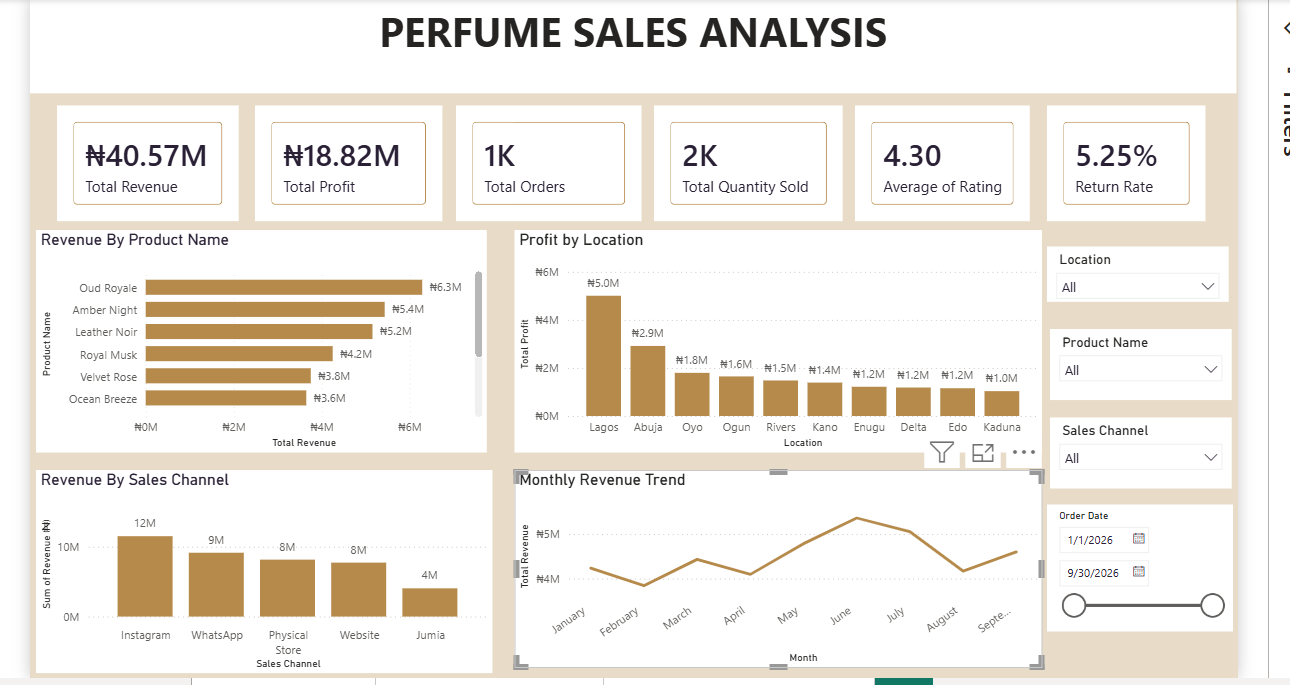

The dashboard page shown, as its layout file describes it:
{"tool":"powerbi","page":{"name":"Sales Overview","canvas":[1280,720],"ordinal":0},"visuals":[{"type":"cardVisual","fields":{"Data":["Cleaned dataset.Total Revenue"]},"box":[28.3,113.4,192.8,122.8],"z":0},{"type":"clusteredBarChart","title":"Revenue By Product Name","fields":{"Category":["Cleaned dataset. Product Name"],"Y":["Cleaned dataset.Total Revenue"]},"box":[5.7,245.7,478.1,236.2],"z":1000},{"type":"cardVisual","fields":{"Data":["Cleaned dataset.Total Profit"]},"box":[238.1,113.4,198.4,122.8],"z":2000},{"type":"cardVisual","fields":{"Data":["Cleaned dataset.Total Orders"]},"box":[451.7,113.4,196.5,122.8],"z":3000},{"type":"cardVisual","fields":{"Data":["Cleaned dataset.Total Quantity Sold"]},"box":[661.4,113.4,200.3,122.8],"z":4000},{"type":"cardVisual","fields":{"Data":["Avg(Cleaned dataset.Rating)"]},"box":[875,113.4,185.2,122.8],"z":5000},{"type":"cardVisual","fields":{"Data":["Cleaned dataset.Return Rate"]},"box":[1079.1,113.4,168.2,122.8],"z":6000},{"type":"clusteredColumnChart","title":" Profit by Location","fields":{"Category":["Cleaned dataset.Location"],"Y":["Cleaned dataset.Total Profit"]},"box":[514,245.7,559.4,236.2],"z":7000},{"type":"clusteredColumnChart","title":"Revenue By Sales Channel","fields":{"Category":["Cleaned dataset. Sales Channel"],"Y":["Sum(Cleaned dataset.Revenue (₦))"]},"box":[5.7,498.9,483.8,215.4],"z":8000},{"type":"lineChart","title":"Monthly Revenue Trend ","fields":{"Y":["Cleaned dataset.Total Revenue"],"Category":["Cleaned dataset.Order Date.Variation.Date Hierarchy.Month"]},"box":[514,498.9,559.4,209.8],"z":9000},{"type":"textbox","box":[0,0,1279.4,100.2],"z":10000},{"type":"slicer","fields":{"Values":["Cleaned dataset.Location"]},"box":[1079.1,262.7,192.8,58.6],"z":11000},{"type":"slicer","fields":{"Values":["Cleaned dataset. Product Name"]},"box":[1081,349.6,192.8,75.6],"z":12000},{"type":"slicer","fields":{"Values":["Cleaned dataset. Sales Channel"]},"box":[1081,444.1,192.8,75.6],"z":13000},{"type":"slicer","fields":{"Values":["Cleaned dataset.Order Date"]},"box":[1079.1,536.7,196.5,134.2],"z":14000}]}

Visuals, with their boxes on the page's 1280x720 design canvas (x1, y1, x2, y2). These are canvas units, not pixel positions in the 1290x685 screenshot, which may show the page scaled, cropped or inside an application window:
cardVisual - Cleaned dataset.Total Revenue: <region>28, 113, 221, 236</region>
"Revenue By Product Name" clusteredBarChart: <region>6, 246, 484, 482</region>
cardVisual - Cleaned dataset.Total Profit: <region>238, 113, 436, 236</region>
cardVisual - Cleaned dataset.Total Orders: <region>452, 113, 648, 236</region>
cardVisual - Cleaned dataset.Total Quantity Sold: <region>661, 113, 862, 236</region>
cardVisual - Avg(Cleaned dataset.Rating): <region>875, 113, 1060, 236</region>
cardVisual - Cleaned dataset.Return Rate: <region>1079, 113, 1247, 236</region>
" Profit by Location" clusteredColumnChart: <region>514, 246, 1073, 482</region>
"Revenue By Sales Channel" clusteredColumnChart: <region>6, 499, 490, 714</region>
"Monthly Revenue Trend " lineChart: <region>514, 499, 1073, 709</region>
textbox: <region>0, 0, 1279, 100</region>
slicer - Cleaned dataset.Location: <region>1079, 263, 1272, 321</region>
slicer - Cleaned dataset. Product Name: <region>1081, 350, 1274, 425</region>
slicer - Cleaned dataset. Sales Channel: <region>1081, 444, 1274, 520</region>
slicer - Cleaned dataset.Order Date: <region>1079, 537, 1276, 671</region>
